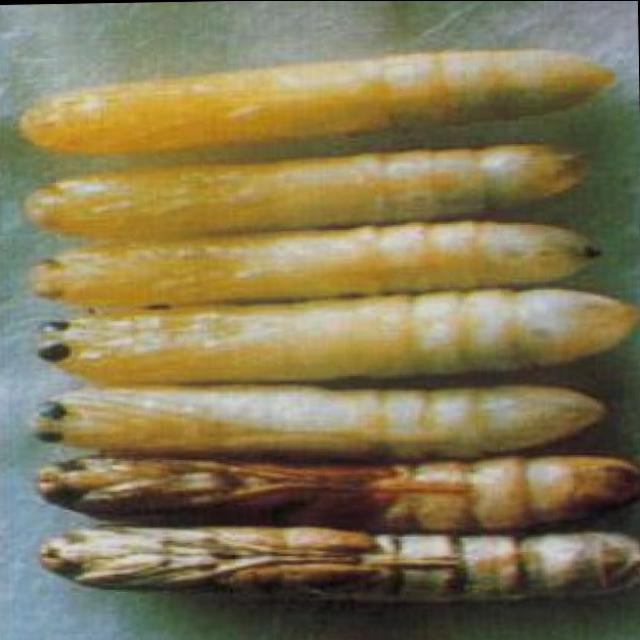stem borer: (26, 143, 640, 598), (19, 50, 611, 149)
